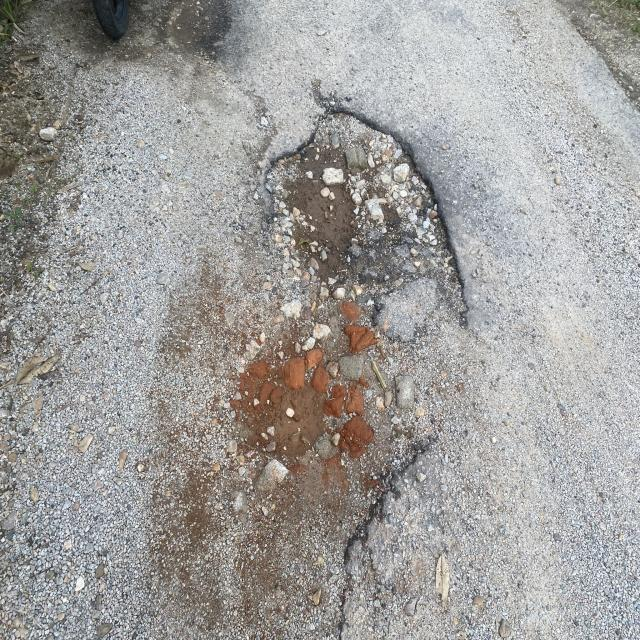Pothole: (256, 85, 508, 576)
